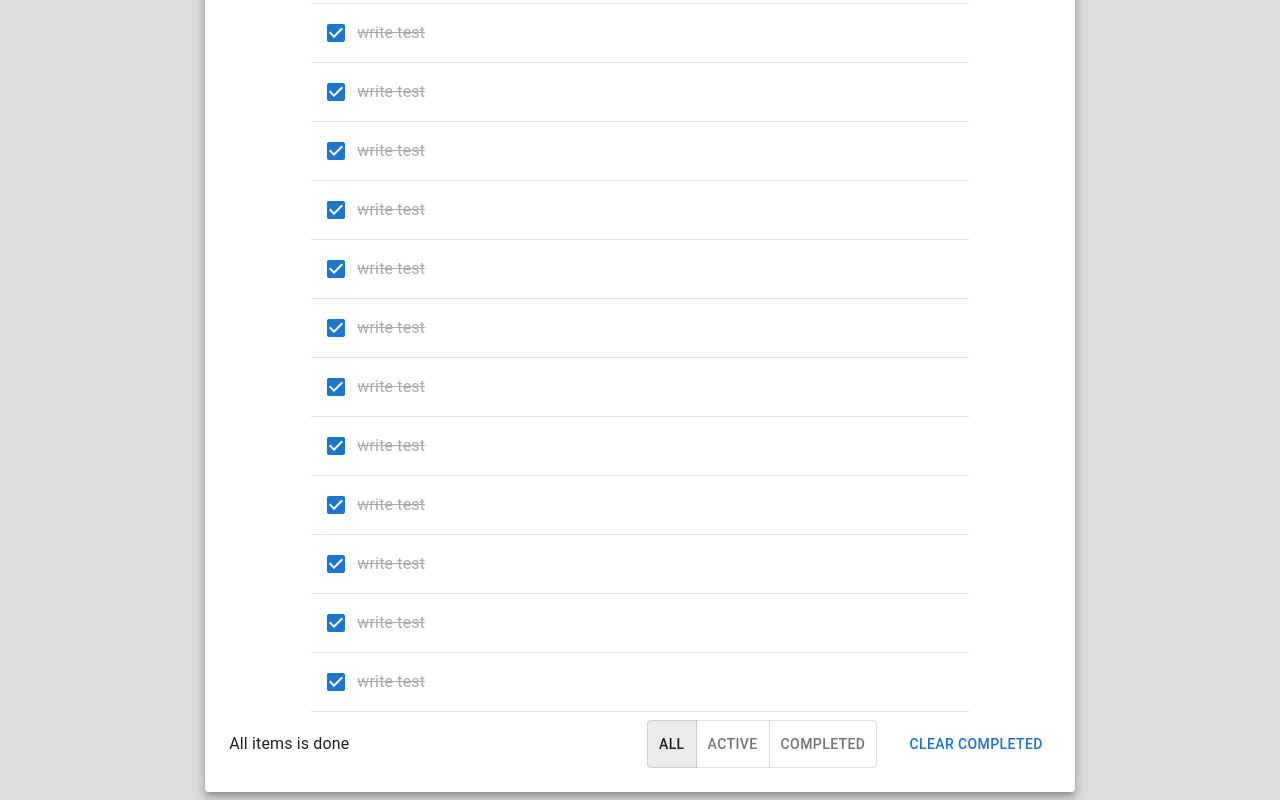
Test: Todos tests › clear completed
(page scrolled)
Check: the text "All items is done" is shown, box [229,734,349,753]
Click the button "Clear completed" at (976, 744), box [901,726,1051,762]
(page scrolled)
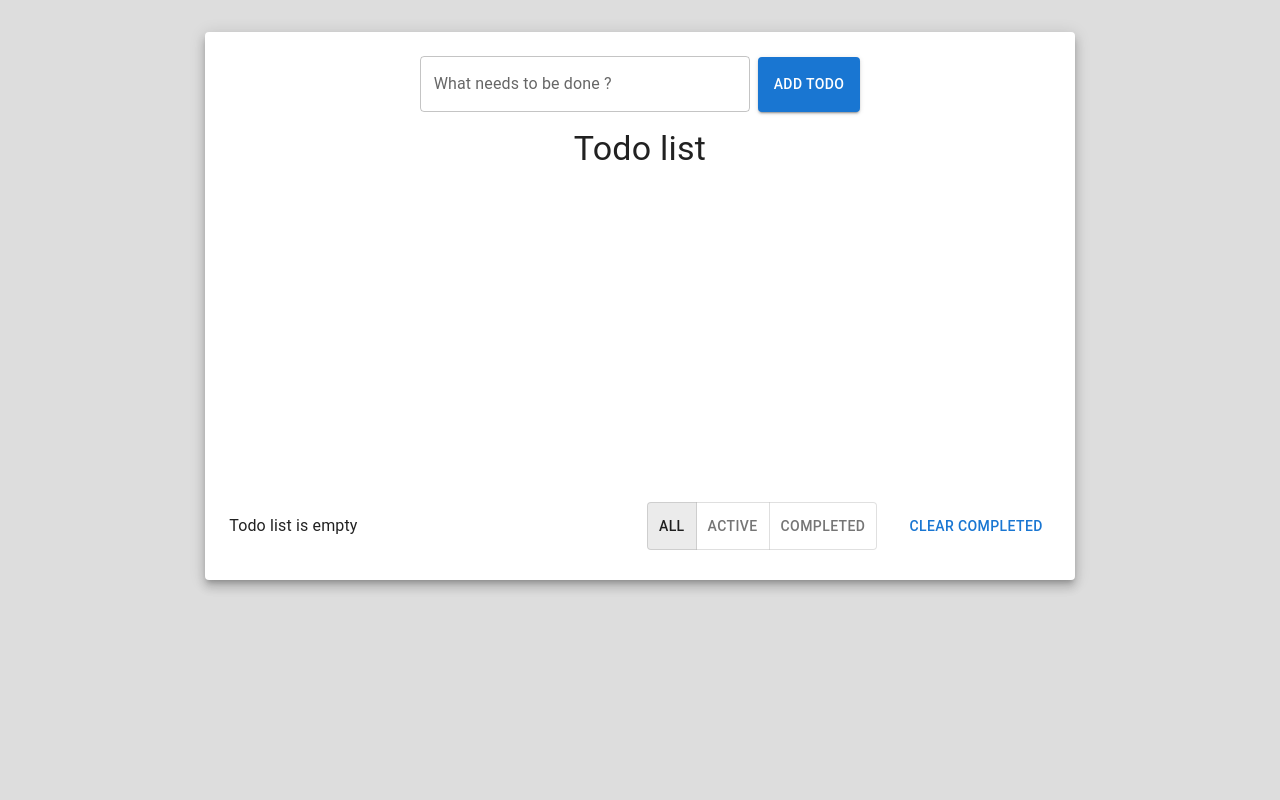
Check: the text "Todo list is empty" is shown, box [229,516,358,535]
